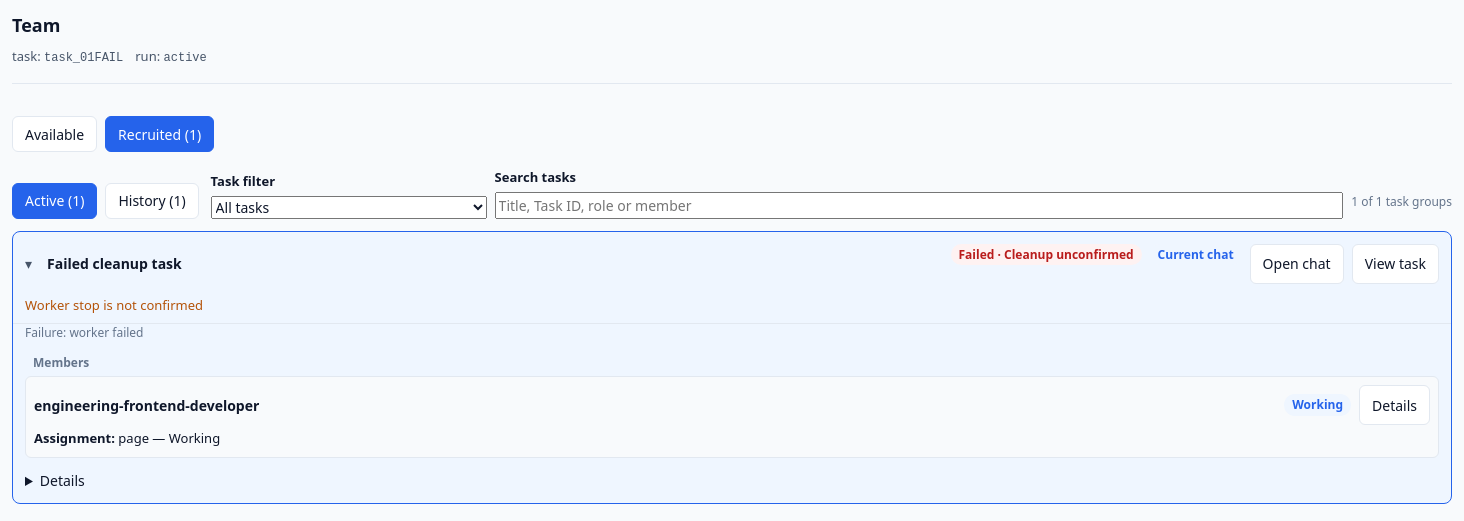
LG-125 grouped team release semantics › keeps failed cleanup-unconfirmed in Active and only moves confirmed release to History
Check: the text "Failed cleanup task" is shown, box [47,253,182,274]
Check: the text "Failed · Cleanup unconfirmed" is shown, box [950,244,1142,265]
Click the tab "History (1)" at (152, 200), box [105,182,199,218]
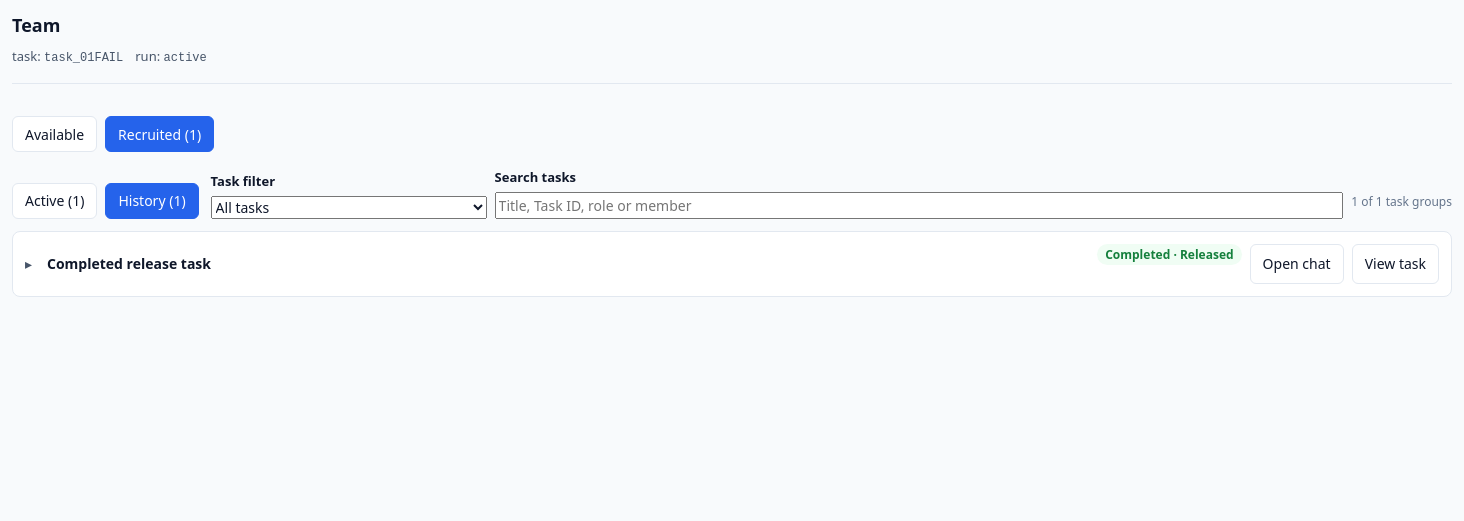
Check: the text "Completed release task" is shown, box [47,253,211,274]
Check: the text "Completed · Released" is shown, box [1097,244,1242,265]
Check: the button "Failed cleanup task" is gone
